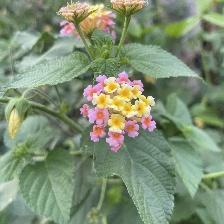common lanthana: (82, 72, 160, 149)
